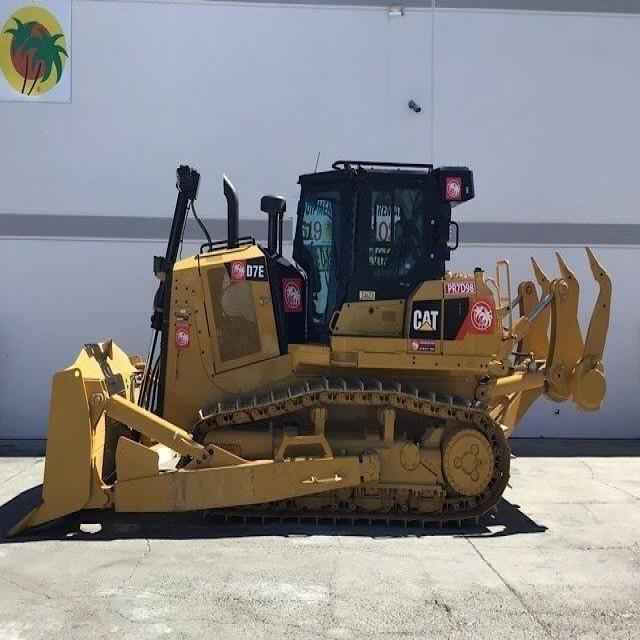Bulldozer: (45, 139, 624, 569)
